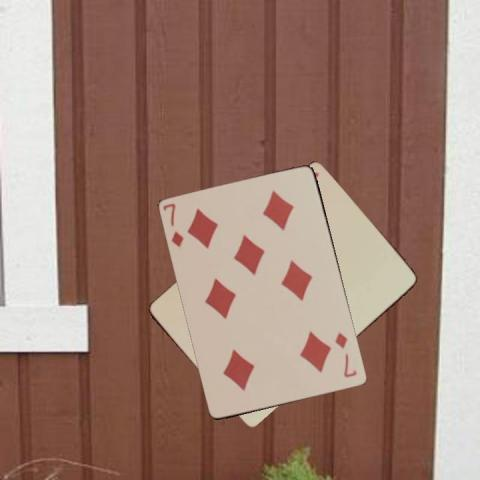7d: (332, 330, 359, 380), (160, 200, 185, 249)
